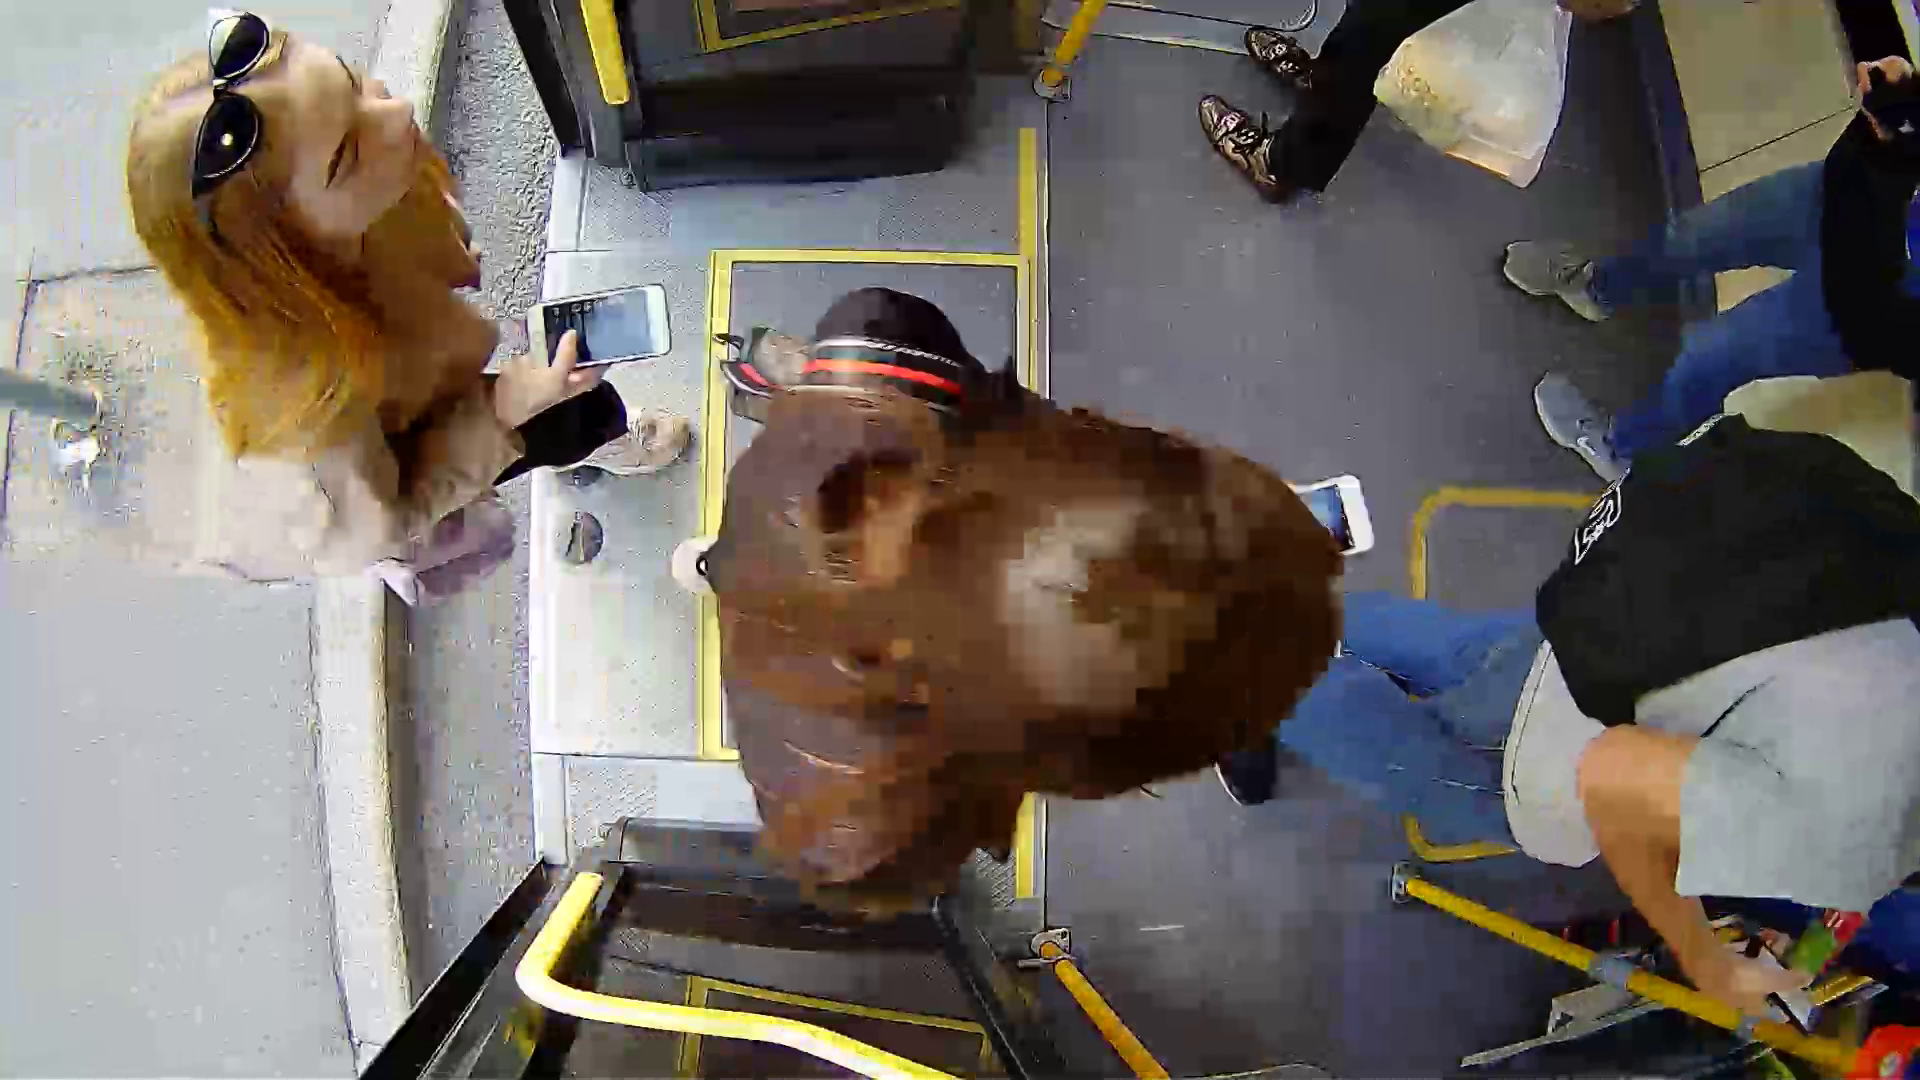person: (693, 282, 1384, 906), (113, 24, 670, 578)
